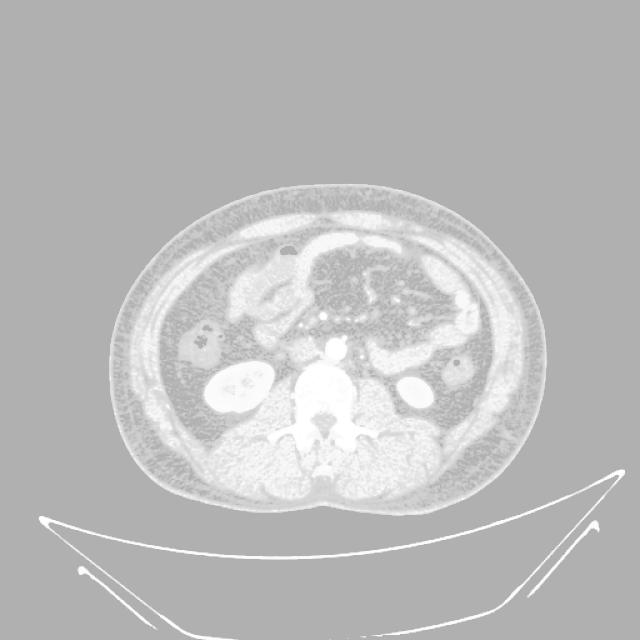NORMAL: (114, 180, 541, 510)
